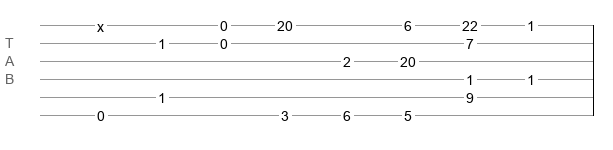0: (97, 108, 105, 118), (220, 18, 228, 28), (220, 36, 228, 46)
1: (158, 36, 166, 46), (158, 90, 166, 100), (466, 72, 474, 82), (527, 72, 535, 82), (527, 18, 535, 28)
2: (343, 54, 351, 64)
20: (277, 18, 293, 28), (400, 54, 416, 64)
22: (462, 18, 478, 28)
3: (281, 108, 289, 118)
5: (404, 108, 412, 118)
6: (343, 108, 351, 118), (404, 18, 412, 28)
7: (466, 36, 474, 46)
9: (466, 90, 474, 100)
x: (97, 19, 104, 27)
